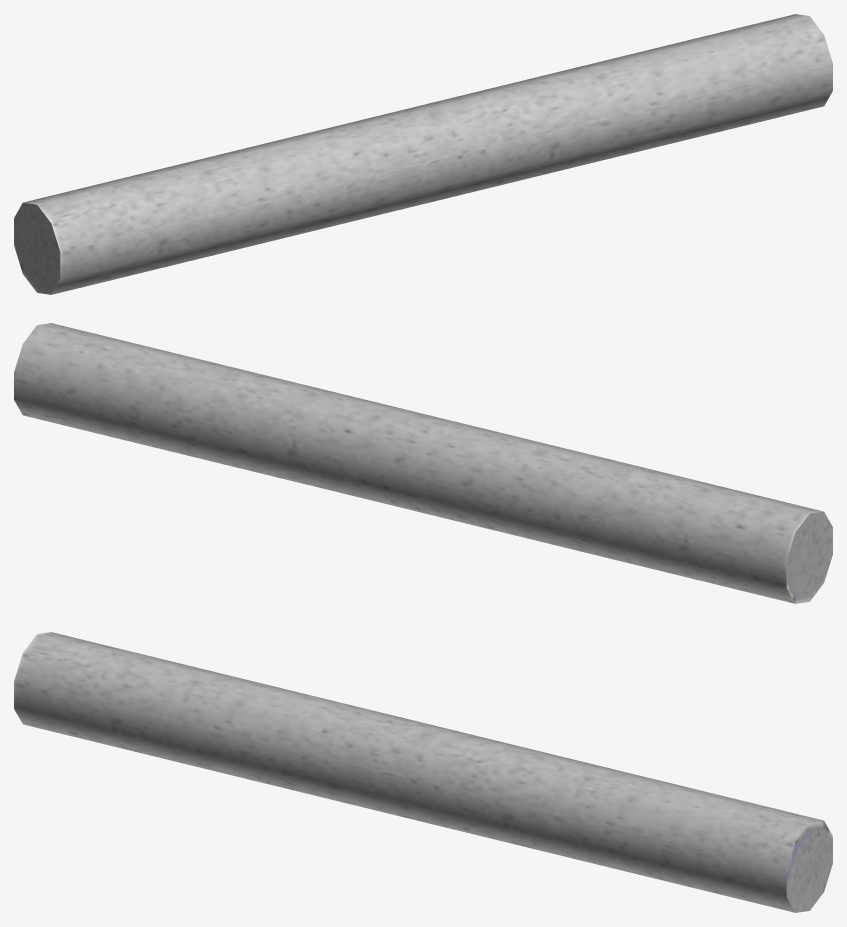
The model's file is Roller.FBX.
3 views of the same model, one above another, from view 1: azimuth 30°, elevation 25°; view 2: azimuth 150°, elevation 25°; view 3: azimuth 330°, elevation 25° (orthographic).
Parts seen in each view (by area): view 1: RCyl_01; view 2: RCyl_01; view 3: RCyl_01.
Boxes of the visible parts, x1,y1,x2,y2 form: RCyl_01: (14, 14, 832, 294); RCyl_01: (14, 323, 832, 603); RCyl_01: (14, 632, 832, 912).
Size of the model in its own units: 9.14 by 0.9974 by 0.9485.
